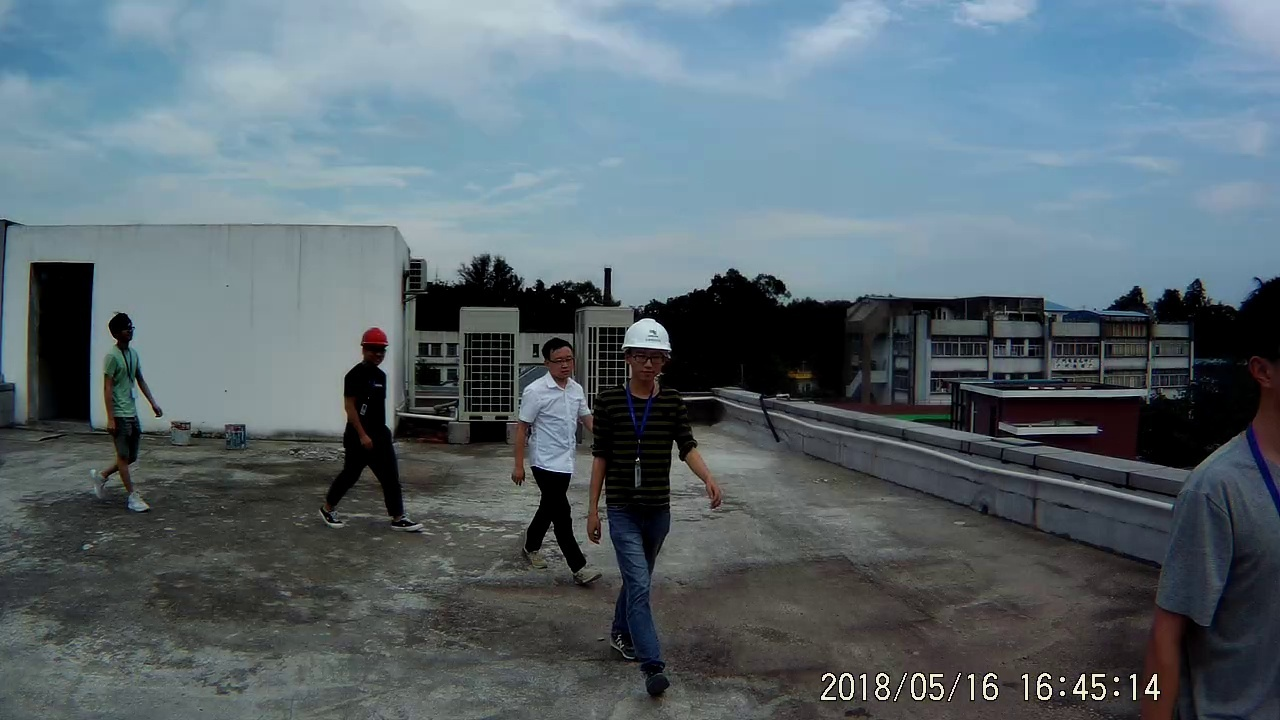none: (536, 335, 579, 382), (102, 306, 140, 348)
red: (355, 325, 393, 373)
white: (617, 307, 675, 389)
